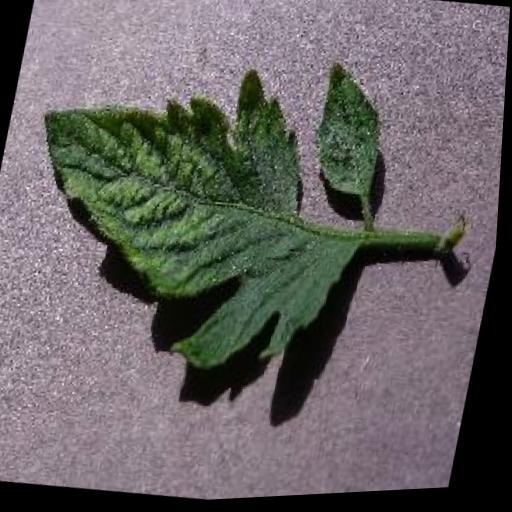Mosaic Virus: (1, 23, 408, 395)
